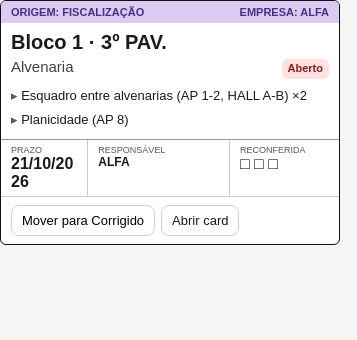
Test case: <CartaoPacote/> — ações da equipe › corrigida pela planilha (sem marcação) não pode ser desmarcada
This screenshot has width=357, height=340.
Click the button "Esquadro entre alvenarias (AP 1-2, HALL A-B) ×2". click: (170, 96)
box: [11, 85, 329, 106]
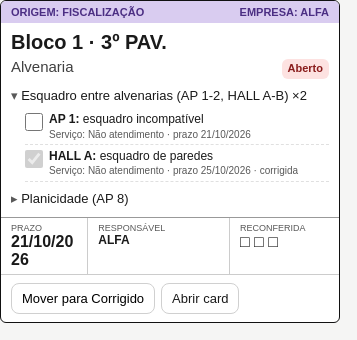
Expected: the checkbox labelled "esquadro de paredes" is disabled, [25, 150, 43, 168]
